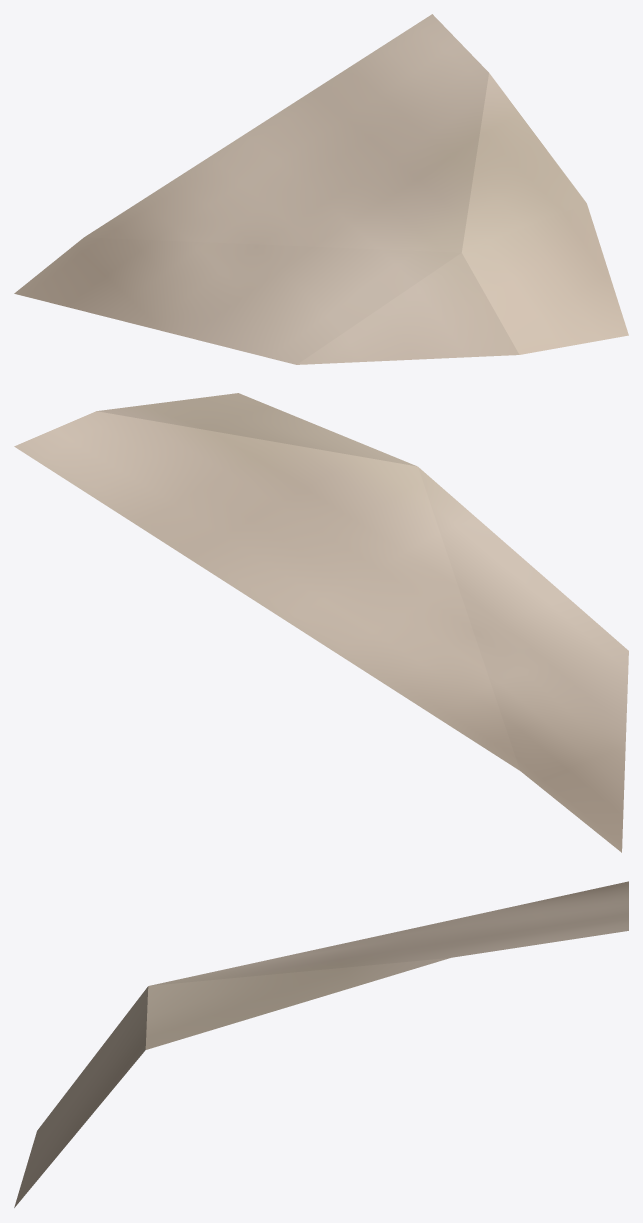
The picture shows the model from 3 angles, top to bottom: view 1: azimuth 30°, elevation 25°; view 2: azimuth 150°, elevation 25°; view 3: azimuth 270°, elevation 25°; orthographic projection. The views are drawn at different scales.
Bounding box in the file's own units: 0.0726 × 0.0295 × 0.0591.
1 material, 1 textured.
